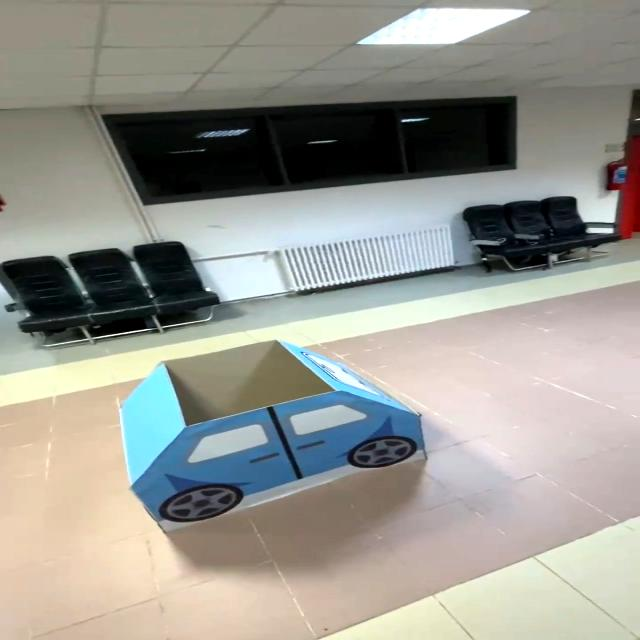blue_car: (79, 334, 470, 548)
